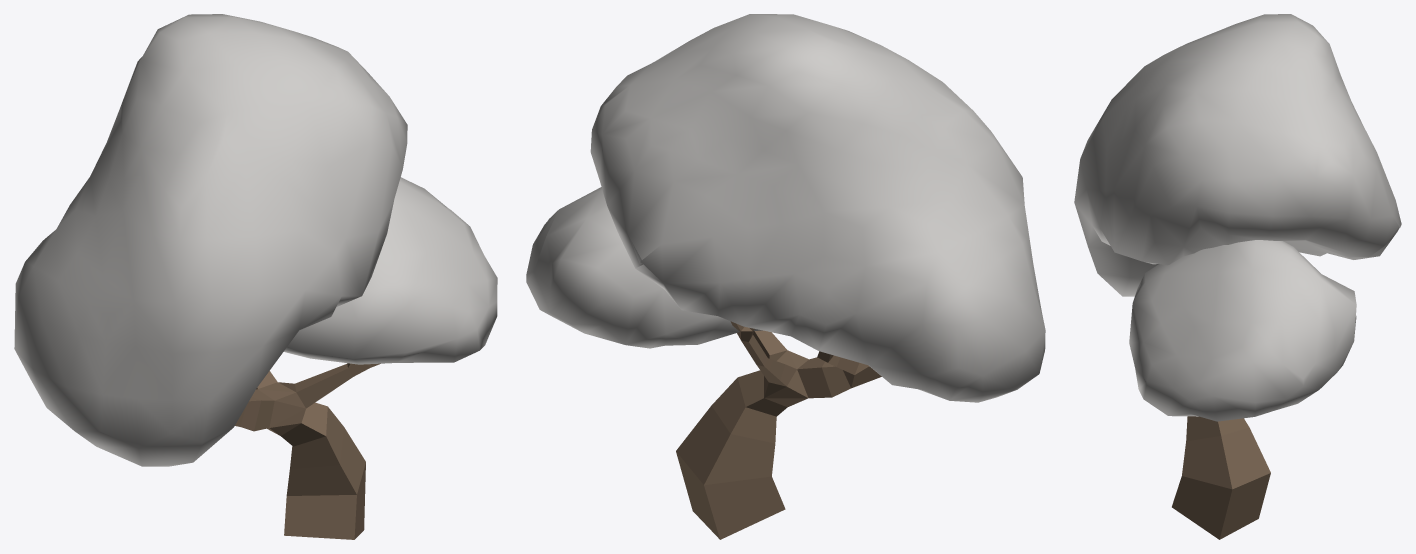
File: Bush_001.fbx
3 views of the same model, side by side, from view 1: azimuth 30°, elevation 25°; view 2: azimuth 150°, elevation 25°; view 3: azimuth 270°, elevation 25° (orthographic). The views are drawn at different scales.
Visible parts, largest first — view 1: Bush.001; view 2: Bush.001; view 3: Bush.001.
Boxes of the visible parts, left/top/right/bottom form: Bush.001: left=14, top=14, right=497, bottom=539; Bush.001: left=526, top=14, right=1045, bottom=539; Bush.001: left=1074, top=14, right=1401, bottom=539.
Bounding box in the file's own units: 355 × 377 × 244.
